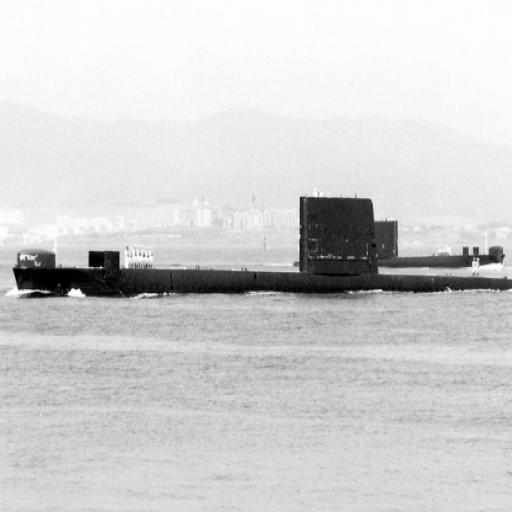submarine: (12, 199, 512, 294), (292, 220, 512, 266)
